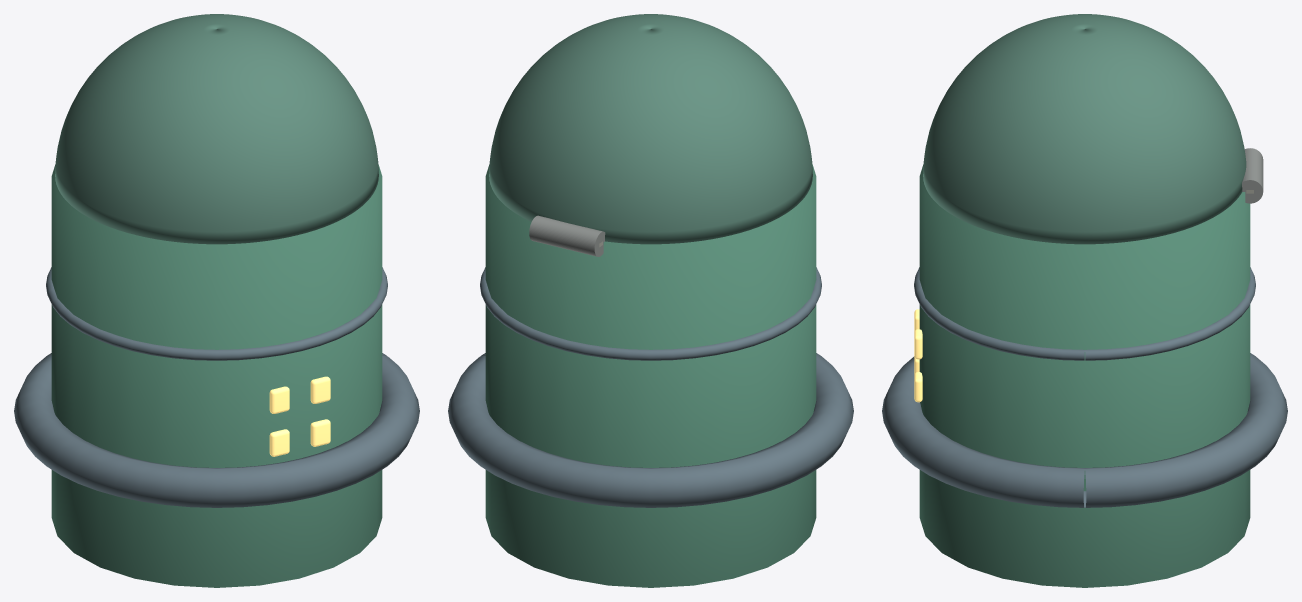
3 views of the same model, side by side, from view 1: azimuth 30°, elevation 25°; view 2: azimuth 150°, elevation 25°; view 3: azimuth 270°, elevation 25° (orthographic).
Parts seen in each view (by area): view 1: Hollow tower casing, Hemispherical hinged dome, Tower intermediate ledge, Tower seam, Inset service window.004; view 2: Hollow tower casing, Hemispherical hinged dome, Tower intermediate ledge, Tower seam, Rear lid hinge axle; view 3: Hollow tower casing, Hemispherical hinged dome, Tower intermediate ledge, Tower seam, Rear lid hinge axle.
Part boxes in pixels (x1,y1,x2,y2): Hollow tower casing: [51, 164, 382, 587]; Hemispherical hinged dome: [55, 14, 378, 244]; Tower intermediate ledge: [14, 353, 419, 507]; Tower seam: [46, 267, 387, 360]; Inset service window.004: [269, 386, 289, 413]; Hollow tower casing: [485, 164, 816, 587]; Hemispherical hinged dome: [489, 14, 812, 244]; Tower intermediate ledge: [448, 353, 853, 507]; Tower seam: [480, 267, 821, 360]; Rear lid hinge axle: [529, 215, 605, 256]; Hollow tower casing: [919, 164, 1250, 587]; Hemispherical hinged dome: [923, 14, 1246, 244]; Tower intermediate ledge: [882, 353, 1287, 507]; Tower seam: [914, 267, 1255, 360]; Rear lid hinge axle: [1242, 148, 1263, 203].
Size of the model in its own units: 1.72 by 2.29 by 1.72.
